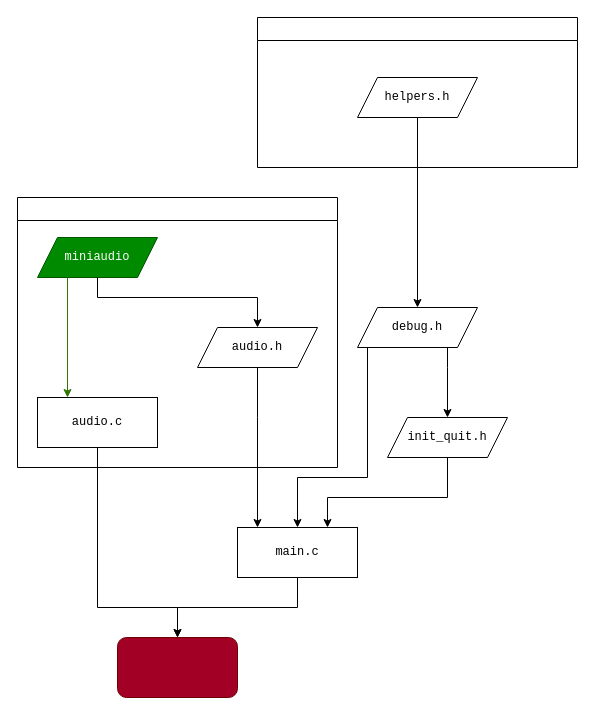
Some shapes in this 595 by 715 pixel diagram are drawn without their labels. The shapes that lost their labels are listed below. From the top down, each one's box as (x1, y1, x2, y2) in pixels, then its label:
(256, 16, 578, 168): Helpers
(16, 196, 338, 468): Audio
(116, 636, 238, 698): main.exe
